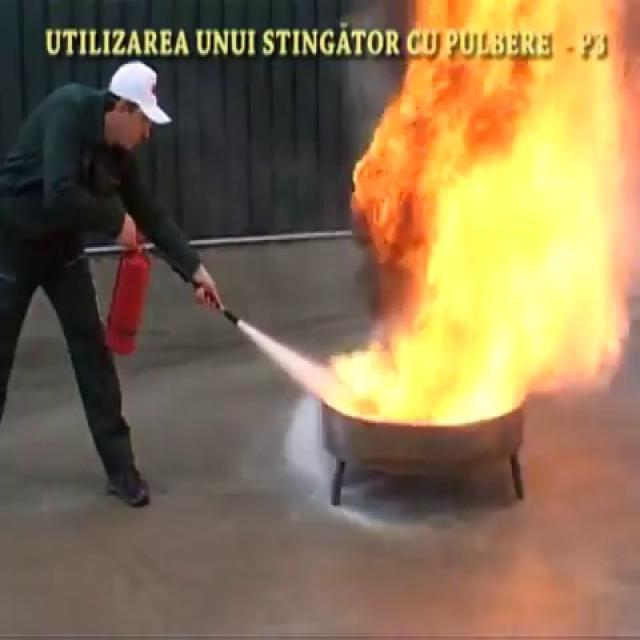Fire: (321, 0, 639, 421)
